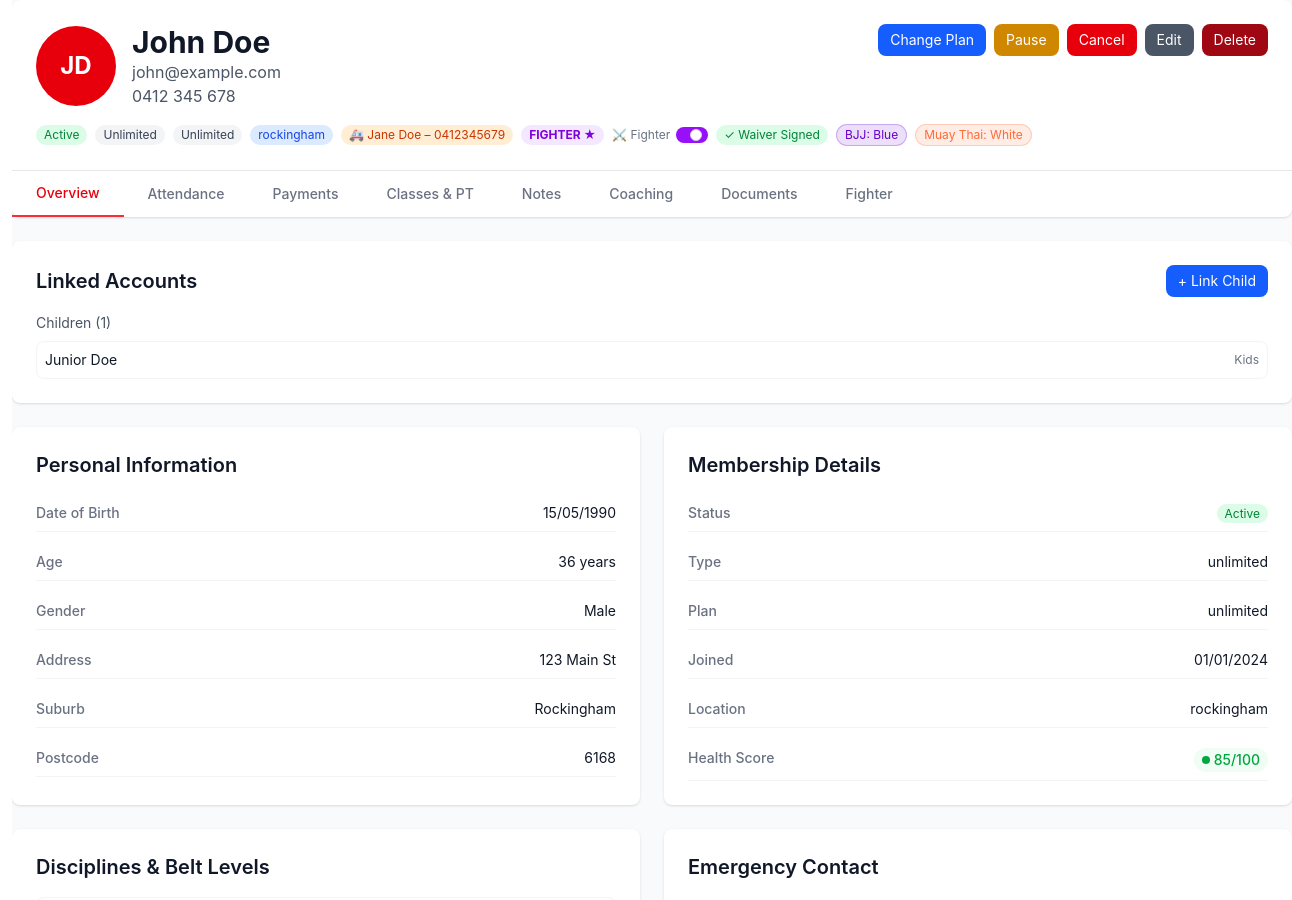
Test: MemberProfile Page › displays attendance stats in attendance tab
Expected: the heading "John Doe" is shown, [132, 24, 281, 60]
Click the button "Attendance": (186, 194) [124, 171, 248, 217]
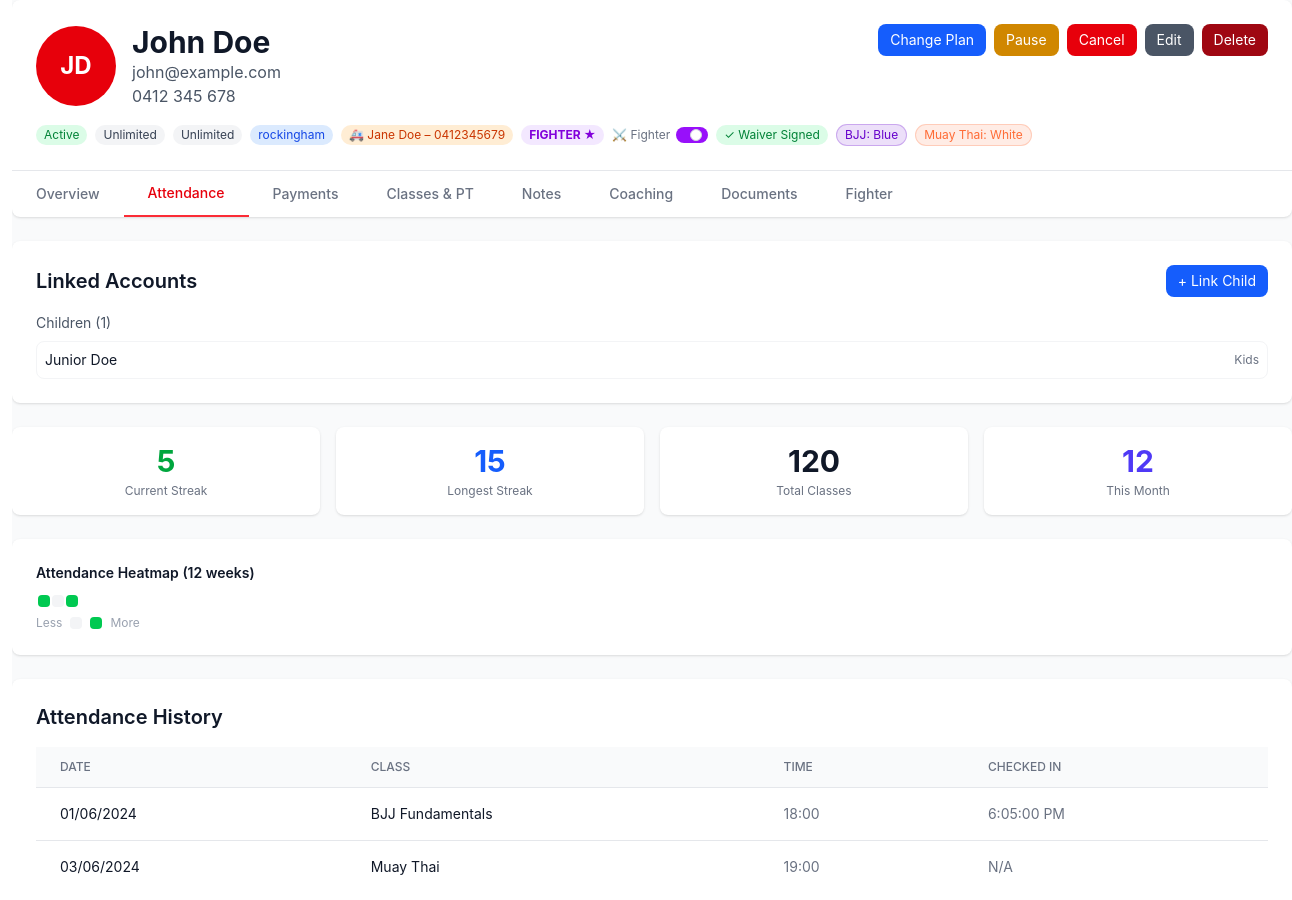
Result: the text "Current Streak" is shown at [125, 483, 207, 498]
Result: the text "Longest Streak" is shown at [447, 483, 533, 498]
Result: the text "Total Classes" is shown at [776, 483, 852, 498]
